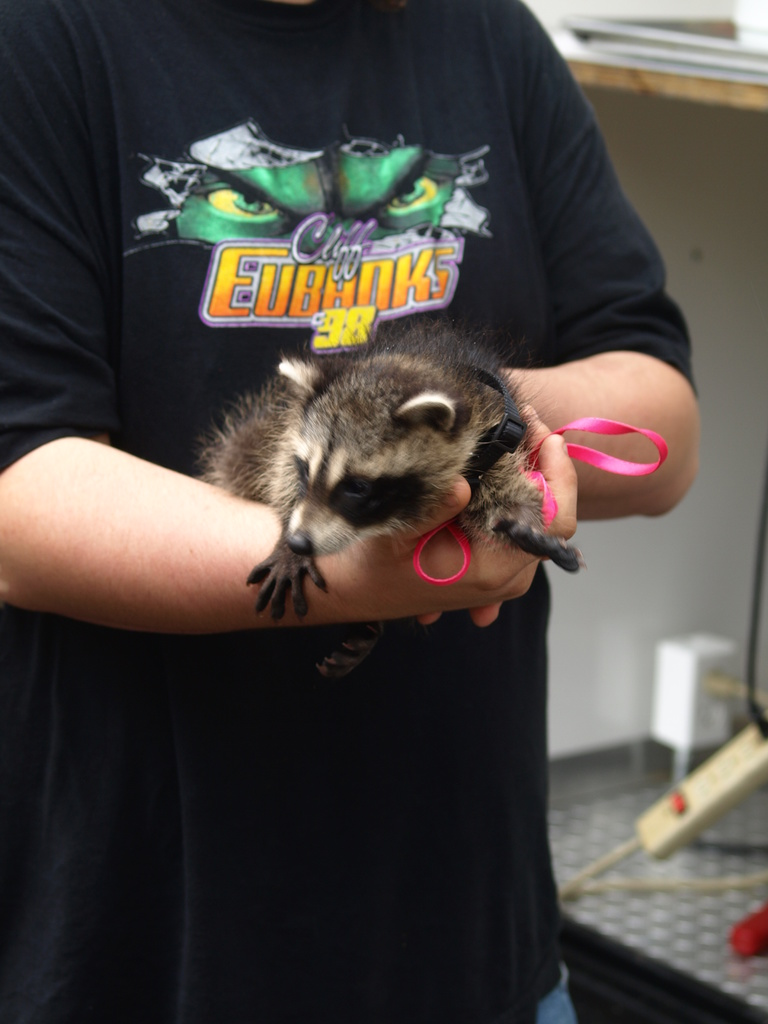raccoon: (204, 345, 587, 626)
